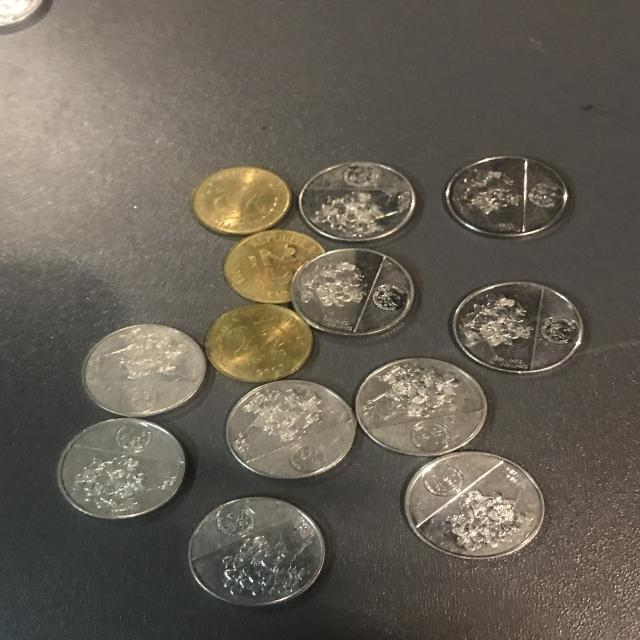1_New_Back: (423, 483, 541, 551), (205, 534, 323, 601), (65, 458, 181, 515), (362, 362, 465, 422)
